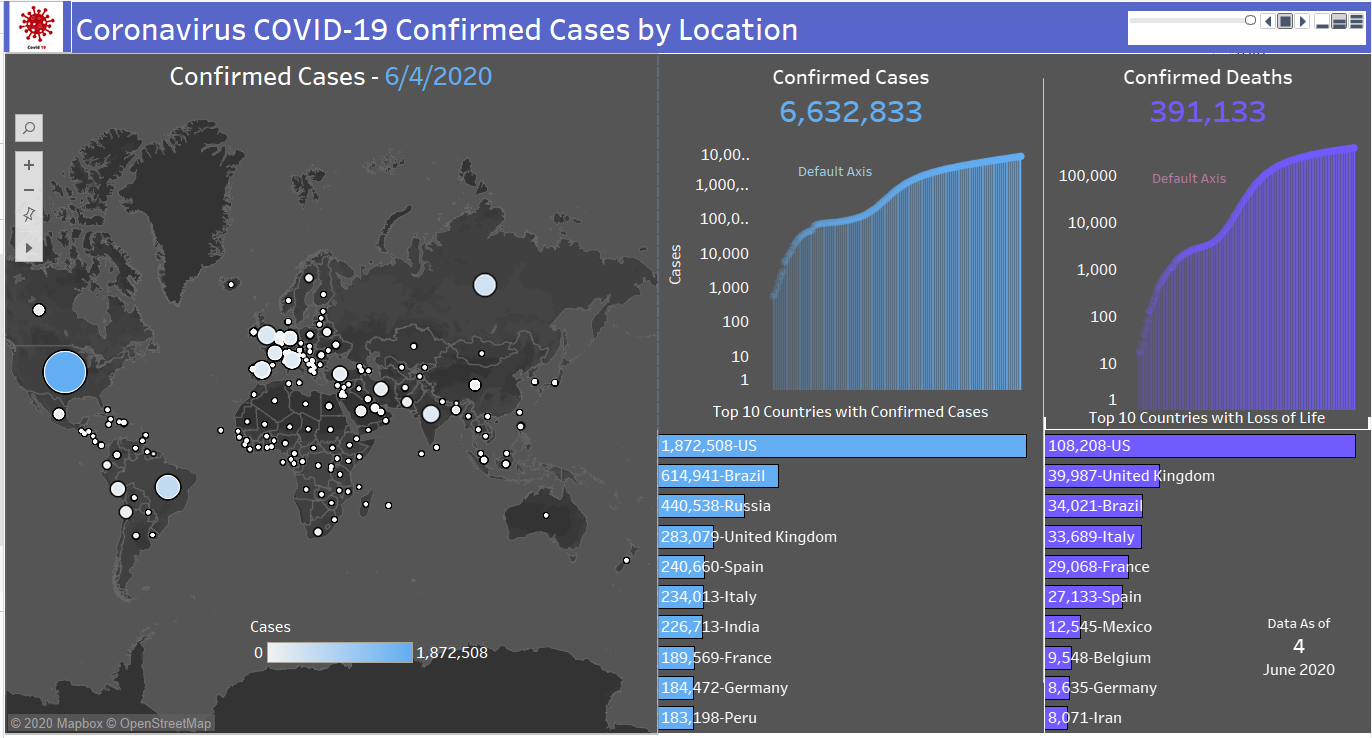

What the dashboard file says about the page in this screenshot:
{"tool":"tableau","page":{"name":"Dashboard 1","canvas":[1366,768],"ordinal":0},"visuals":[{"type":"text","box":[68,1,1299,51]},{"type":"filter","title":"Confirmed Deaths Line (Log) ","param":"[federated.03ex09c1k0d87a1aoh42i1m1sx3k].[none:Case_Type:nk]","box":[1198,8,160,105]},{"type":"currpage","title":"Map","box":[1124,10,238,34]},{"type":"worksheet","title":"Map","mark":"Automatic","box":[1,53,652,679]},{"type":"worksheet","title":"Confirmed Cases Ban","mark":"Automatic","box":[653,53,387,85]},{"type":"worksheet","title":"Confirmed Deaths Ban ","mark":"Automatic","box":[1040,53,327,85]},{"type":"worksheet","title":"Confirmed Deaths Line (Log) ","mark":"Automatic","rows":["Cases","Cases"],"cols":["Date"],"box":[1044,133,320,276]},{"type":"worksheet","title":"Confirmed Cases Line","mark":"Automatic","rows":["Cases","Cases"],"cols":["Date"],"box":[653,138,387,254]},{"type":"worksheet","title":"Confirmed Deaths Line ","mark":"Automatic","rows":["Cases","Cases"],"cols":["Date"],"box":[1040,138,327,278]},{"type":"worksheet","title":"Confirmed Cases Line (Log)","mark":"Automatic","rows":["Cases","Cases"],"cols":["Date"],"box":[680,139,357,254]},{"type":"dashboard-object","box":[771,158,121,24]},{"type":"dashboard-object","box":[1131,165,109,24]},{"type":"text","box":[653,392,387,37]},{"type":"text","box":[1042,404,322,24]},{"type":"worksheet","title":"Confirmed Cases Bar (Rank Unique)","mark":"Automatic","cols":["Cases"],"box":[653,429,387,303]},{"type":"worksheet","title":"Confirmed Deaths Bar (Rank Unique) ","mark":"Automatic","cols":["Cases"],"box":[1040,429,327,303]},{"type":"worksheet","title":"As of Date","mark":"Automatic","box":[1249,610,91,71]},{"type":"legend","title":"Map","param":"[federated.03ex09c1k0d87a1aoh42i1m1sx3k].[sum:Cases:qk]","box":[246,615,243,69]}]}

Visuals, with their boxes on the page's 1366x768 design canvas (x1, y1, x2, y2). These are canvas units, not pixel positions in the 1372x738 screenshot, which may show the page scaled, cropped or inside an application window:
text: locate(68, 1, 1367, 52)
"Confirmed Deaths Line (Log) " filter: locate(1198, 8, 1358, 113)
"Map" currpage: locate(1124, 10, 1362, 44)
"Map" worksheet: locate(1, 53, 653, 732)
"Confirmed Cases Ban" worksheet: locate(653, 53, 1040, 138)
"Confirmed Deaths Ban " worksheet: locate(1040, 53, 1367, 138)
"Confirmed Deaths Line (Log) " worksheet: locate(1044, 133, 1364, 409)
"Confirmed Cases Line" worksheet: locate(653, 138, 1040, 392)
"Confirmed Deaths Line " worksheet: locate(1040, 138, 1367, 416)
"Confirmed Cases Line (Log)" worksheet: locate(680, 139, 1037, 393)
dashboard-object: locate(771, 158, 892, 182)
dashboard-object: locate(1131, 165, 1240, 189)
text: locate(653, 392, 1040, 429)
text: locate(1042, 404, 1364, 428)
"Confirmed Cases Bar (Rank Unique)" worksheet: locate(653, 429, 1040, 732)
"Confirmed Deaths Bar (Rank Unique) " worksheet: locate(1040, 429, 1367, 732)
"As of Date" worksheet: locate(1249, 610, 1340, 681)
"Map" legend: locate(246, 615, 489, 684)
